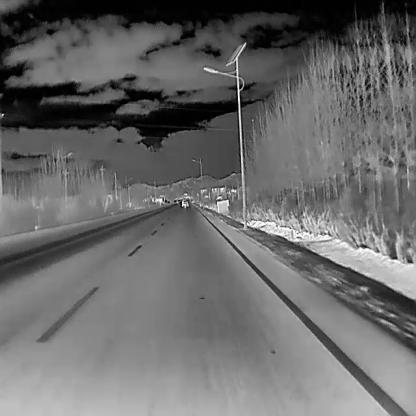car: (181, 199, 189, 207)
